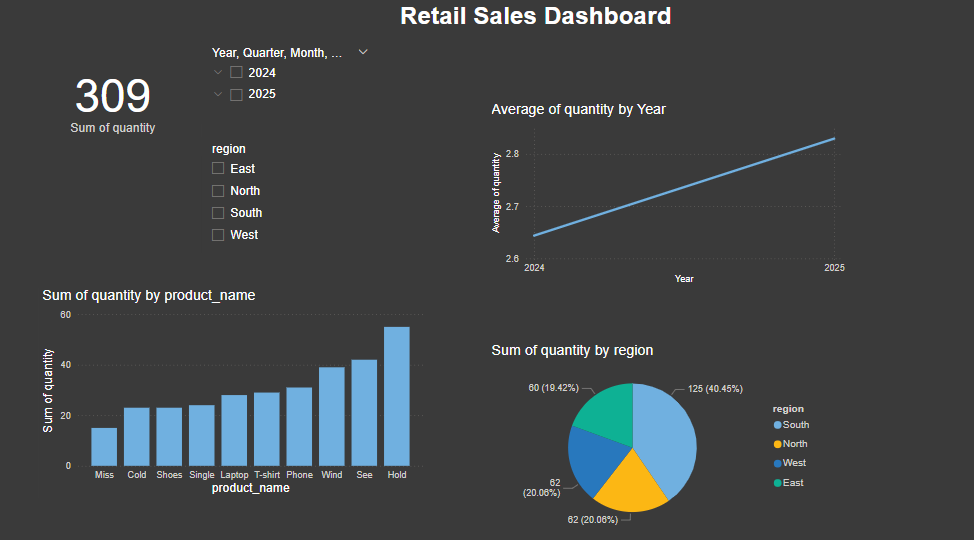

The page's visual inventory and layout, read from the dashboard file:
{"tool":"powerbi","page":{"name":"Page 1","canvas":[1280,720],"ordinal":0},"visuals":[{"type":"textbox","box":[493.2,0,417.6,90.7],"z":0},{"type":"card","fields":{"Values":["Sum(public sales.quantity)"]},"box":[32,58,234,150],"z":1000},{"type":"columnChart","fields":{"Category":["public products.product_name"],"Y":["Sum(public sales.quantity)"]},"box":[52,380,508,276],"z":2000},{"type":"lineChart","fields":{"Category":["public sales.sale_date.Variation.Date Hierarchy.Year","public sales.sale_date.Variation.Date Hierarchy.Quarter","public sales.sale_date.Variation.Date Hierarchy.Month","public sales.sale_date.Variation.Date Hierarchy.Day"],"Y":["Avg(public sales.quantity)"]},"box":[640,136,472,244],"z":3000},{"type":"pieChart","fields":{"Category":["public customers.region"],"Y":["Sum(public sales.quantity)"]},"box":[640,452,438,254],"z":4000},{"type":"slicer","fields":{"Values":["public sales.sale_date.Variation.Date Hierarchy.Year","public sales.sale_date.Variation.Date Hierarchy.Quarter","public sales.sale_date.Variation.Date Hierarchy.Month","public sales.sale_date.Variation.Date Hierarchy.Day"]},"box":[266,58,230,108],"z":4001},{"type":"slicer","fields":{"Values":["public customers.region"]},"box":[266,184,278,150],"z":4002}]}

Visuals, with their boxes in screenshot pixels (x1, y1, x2, y2), scaled from the page's 1280x720 canvas onto the 974x540 screenshot:
textbox: 375, 0, 693, 68
card - Sum(public sales.quantity): 24, 44, 202, 156
columnChart - public products.product_name x Sum(public sales.quantity): 40, 285, 426, 492
lineChart - public sales.sale_date.Variation.Date Hierarchy.Year x public sales.sale_date.Variation.Date Hierarchy.Quarter: 487, 102, 846, 285
pieChart - public customers.region x Sum(public sales.quantity): 487, 339, 820, 530
slicer - public sales.sale_date.Variation.Date Hierarchy.Year x public sales.sale_date.Variation.Date Hierarchy.Quarter: 202, 44, 377, 124
slicer - public customers.region: 202, 138, 414, 250
